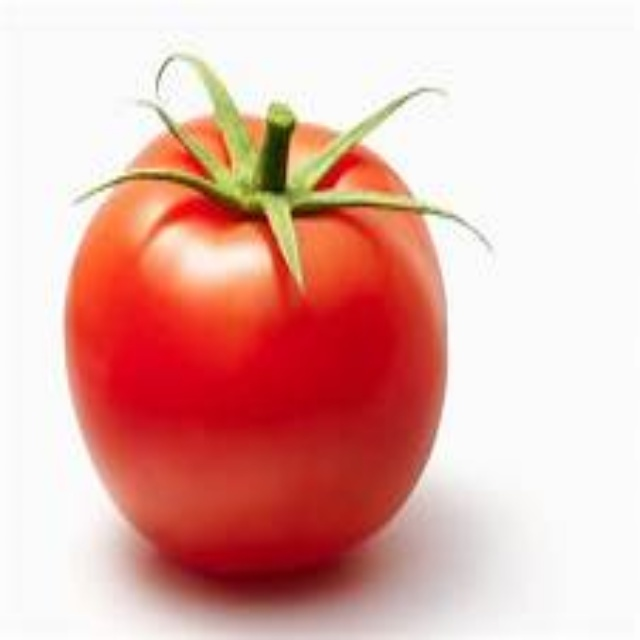tomato: (47, 90, 460, 584)
